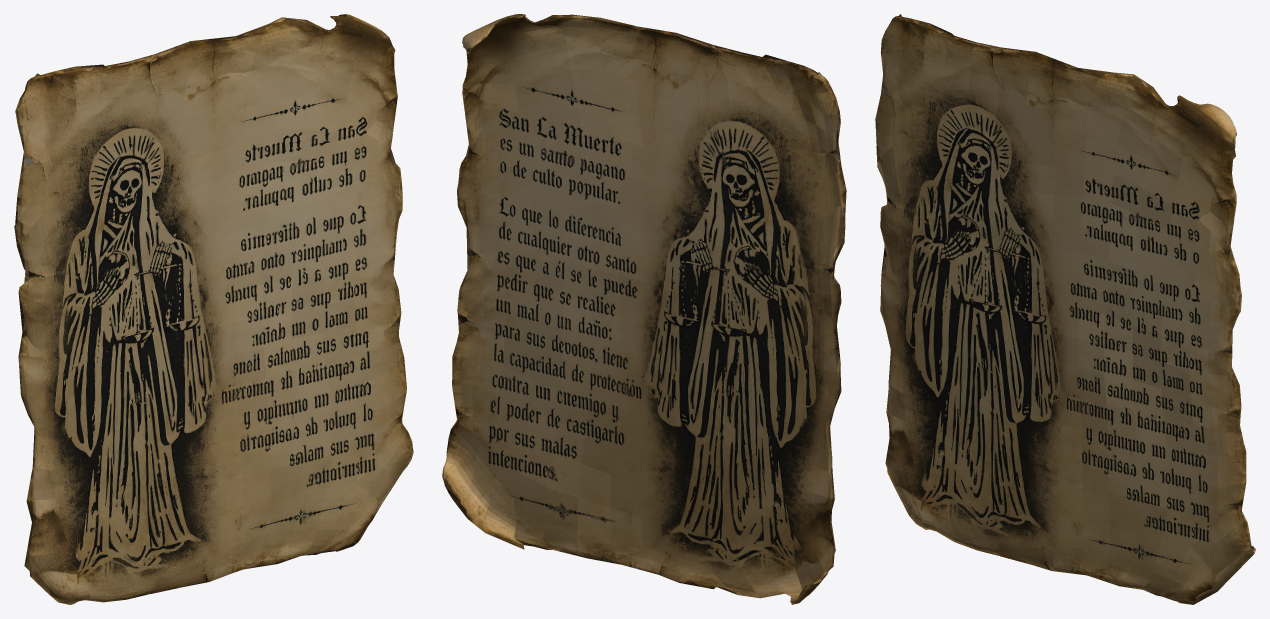
The model's file is note_san_la_muerte.fbx.
3 renders of one model, left to right at view 1: azimuth 30°, elevation 25°; view 2: azimuth 150°, elevation 25°; view 3: azimuth 330°, elevation 25°, orthographic. The views are drawn at different scales.
Visible parts, largest first — view 1: san_la_muerte; view 2: san_la_muerte; view 3: san_la_muerte.
Boxes of the visible parts, box(x1,y1,x2,y2) form: san_la_muerte: box(14, 14, 413, 604); san_la_muerte: box(442, 14, 846, 604); san_la_muerte: box(875, 14, 1255, 604).
Bounding box in the file's own units: 144 × 190 × 18.22.
2 materials, 2 textured.
